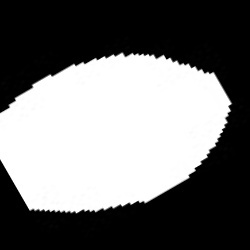spot: (1, 53, 230, 213)
